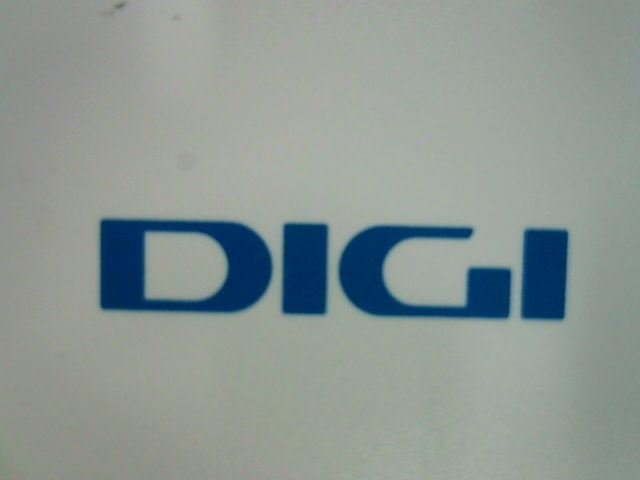BL_DIGI: (83, 186, 593, 337)
